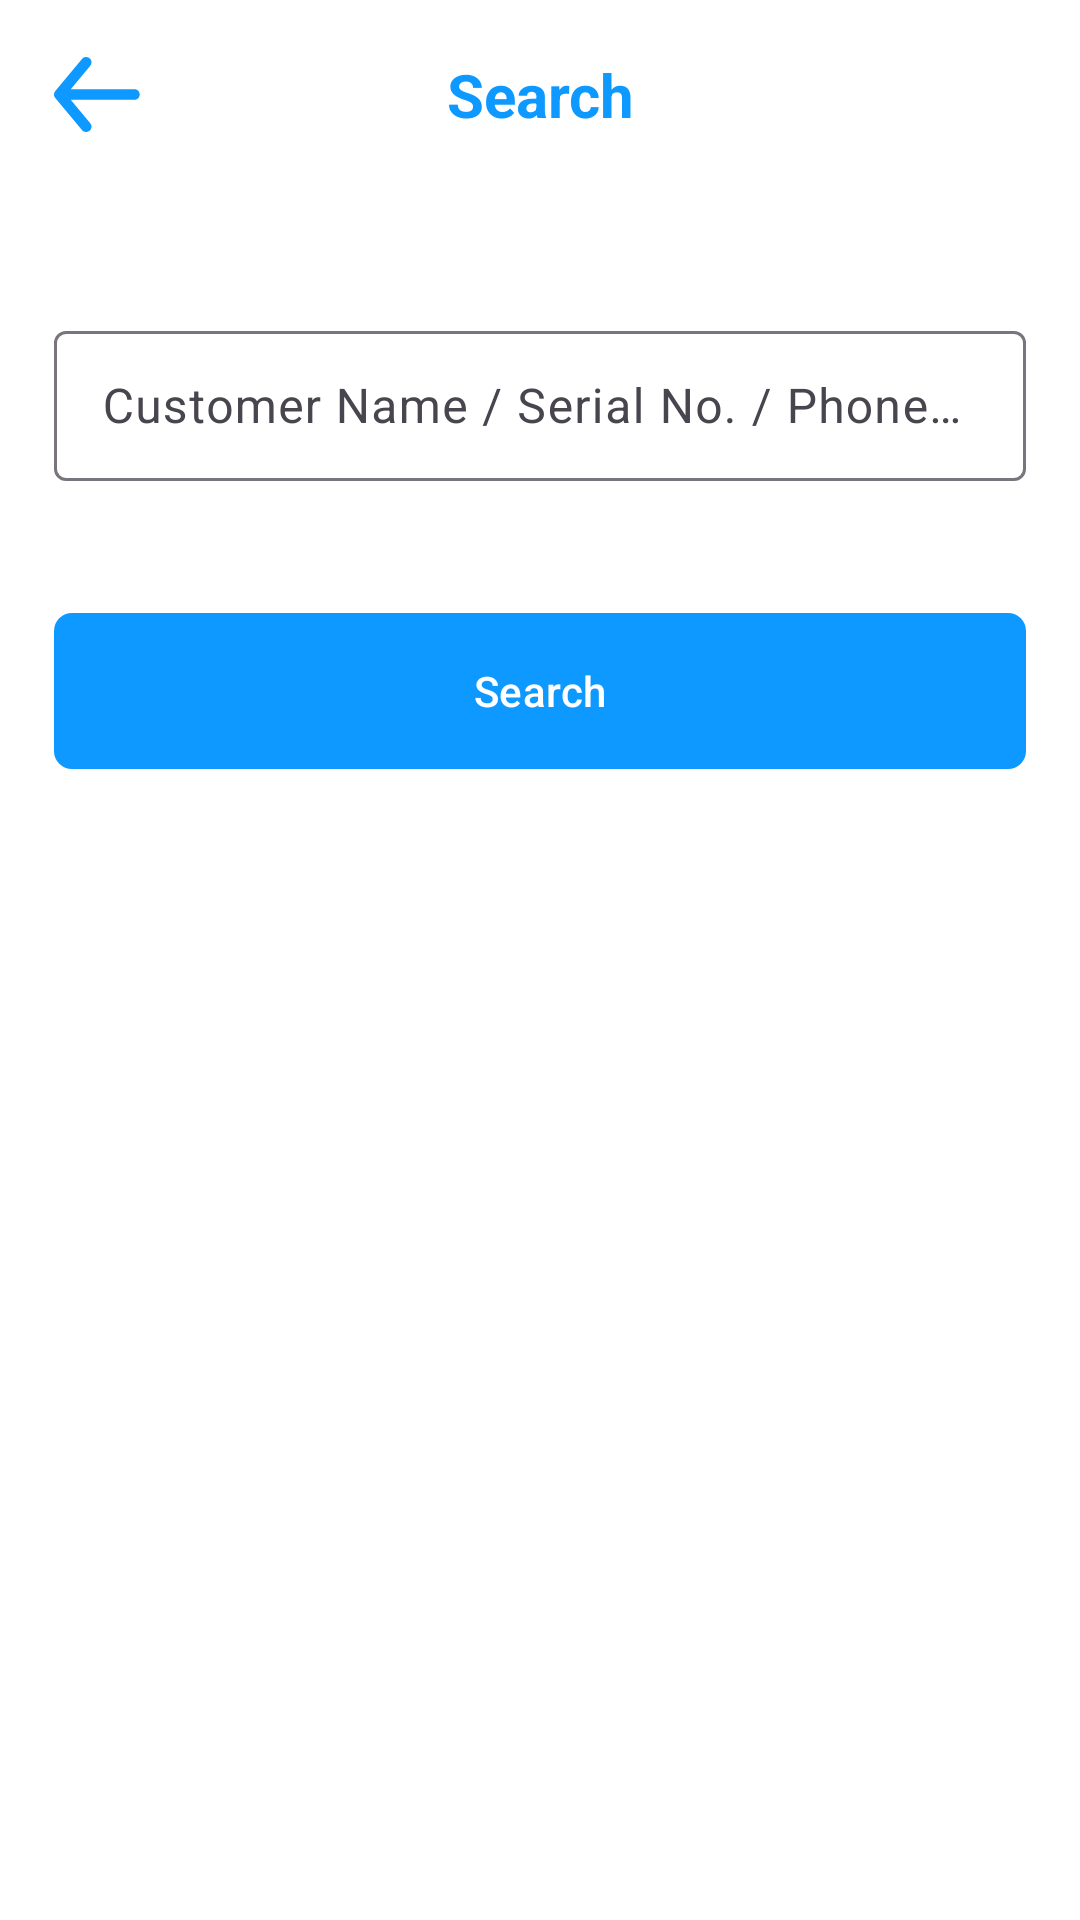

Icons on this 1080*1920 Android screen, each with the point to tap as (x,y):
left arrow: (97,94)
